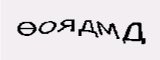Г: (95, 22, 105, 43)
И: (64, 23, 81, 47)
С: (47, 24, 69, 49), (84, 24, 95, 45)
Ф: (103, 19, 120, 43)
